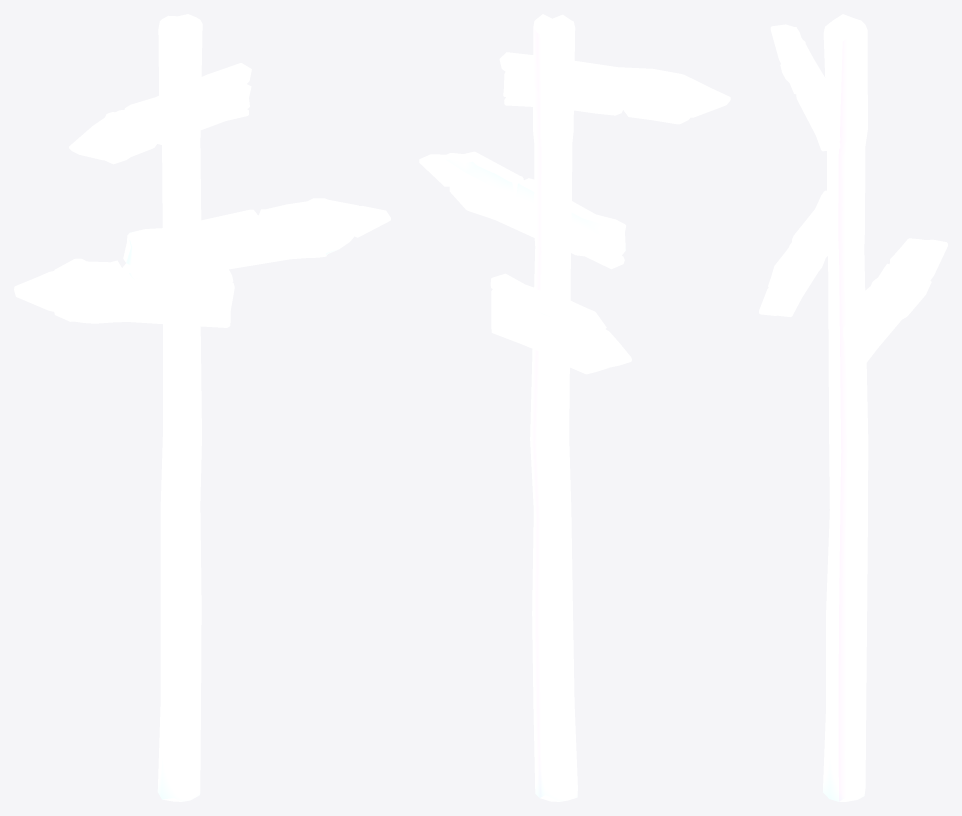
3 views of the same model, side by side, from view 1: azimuth 30°, elevation 25°; view 2: azimuth 150°, elevation 25°; view 3: azimuth 270°, elevation 25° (orthographic).
Visible parts, largest first — view 1: SM_WoodlandGorse_02_LOD0; view 2: SM_WoodlandGorse_02_LOD0; view 3: SM_WoodlandGorse_02_LOD0.
Part boxes in pixels (x1=…): SM_WoodlandGorse_02_LOD0: x1=14, y1=14, x2=390, y2=801; SM_WoodlandGorse_02_LOD0: x1=419, y1=14, x2=730, y2=801; SM_WoodlandGorse_02_LOD0: x1=759, y1=14, x2=947, y2=801.
Size of the model in its own units: 1.12 by 2.65 by 0.5881.
